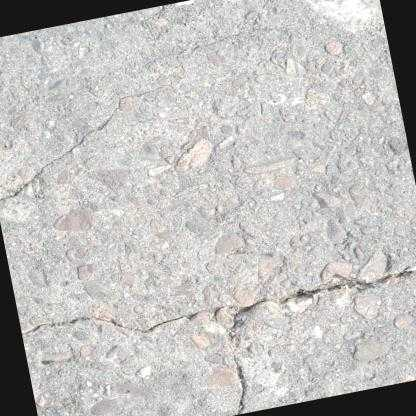crack: (226, 264, 416, 415), (0, 107, 120, 201), (19, 312, 183, 338)
